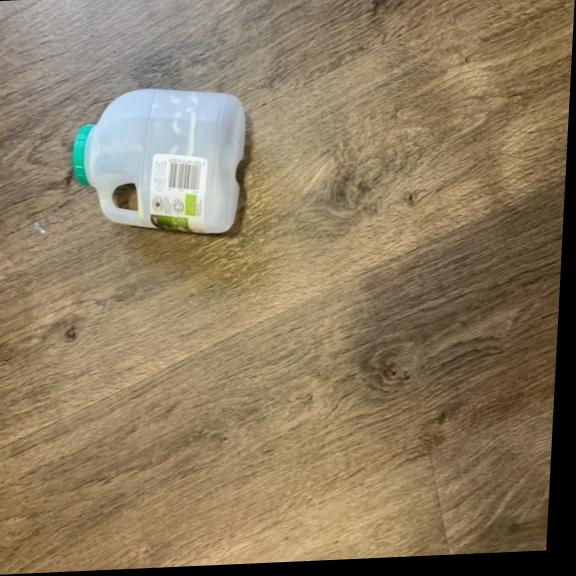Plastik: (62, 83, 258, 237)
